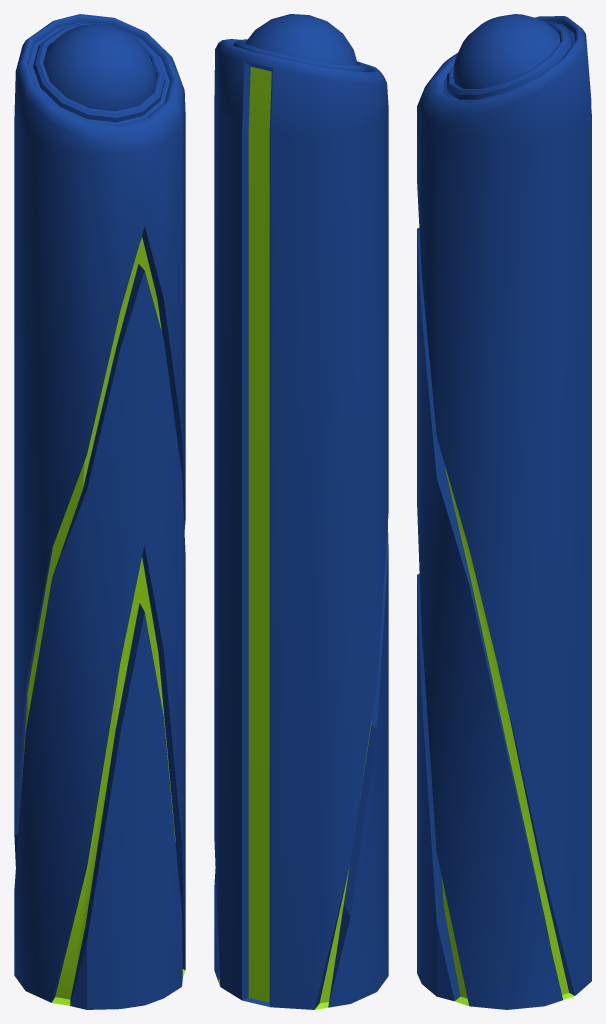
Rendered from ButtonAndPillar 1.FBX.
The picture shows the model from 3 angles, left to right: view 1: azimuth 30°, elevation 25°; view 2: azimuth 150°, elevation 25°; view 3: azimuth 270°, elevation 25°; orthographic projection.
Visible parts, largest first — view 1: Pillar 2, Button 2; view 2: Pillar 2, Button 2; view 3: Pillar 2, Button 2.
Part boxes in pixels (x1,y1,x2,y2): Pillar 2: (14,14,185,1009); Button 2: (43,24,156,111); Pillar 2: (214,39,388,1009); Button 2: (245,14,357,65); Pillar 2: (417,16,591,1009); Button 2: (453,14,559,88).
Size of the model in its own units: 20.26 by 121 by 20.08.
